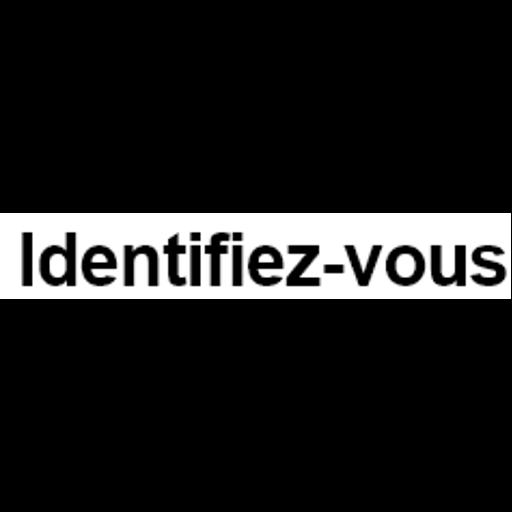Orange: (0, 213, 511, 299)
